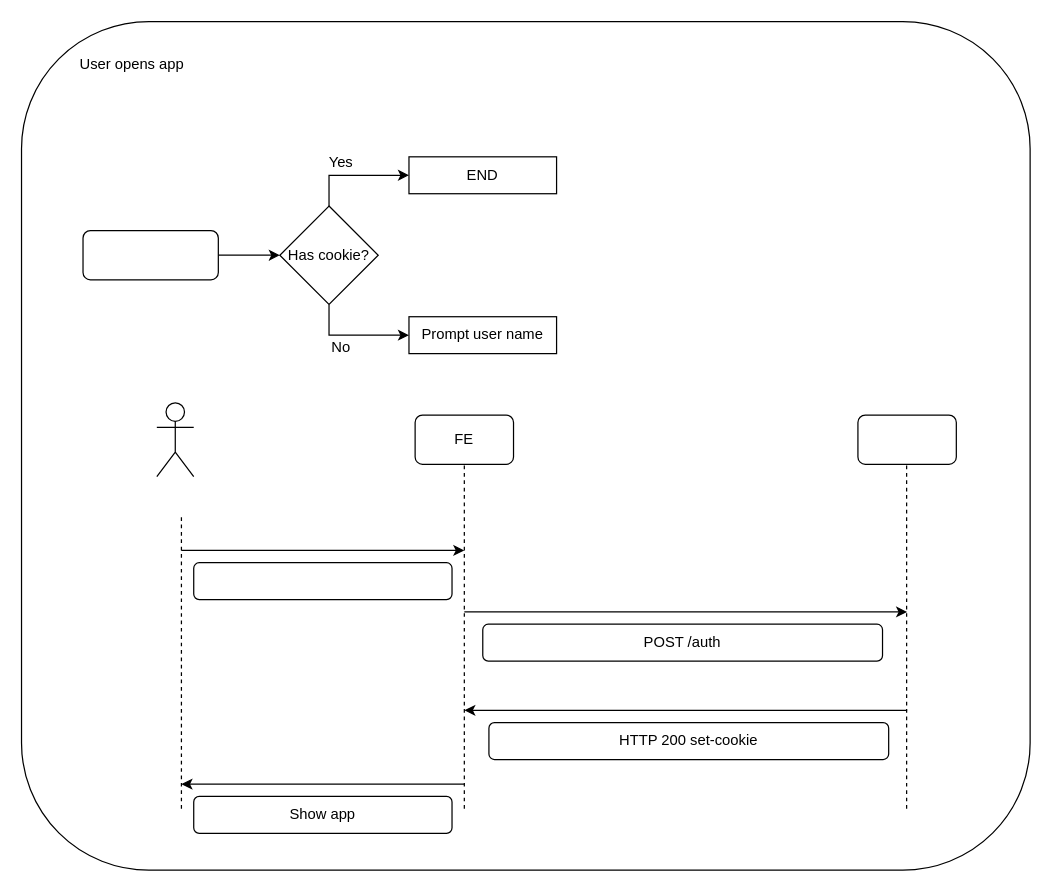
This 1052x892 diagram has some shape labels left out. The centre of each missing label's shape, as x and y in pixels:
Actor: (175,439)
BE: (906,439)
Enter user name: (322,580)
START: (150,254)
